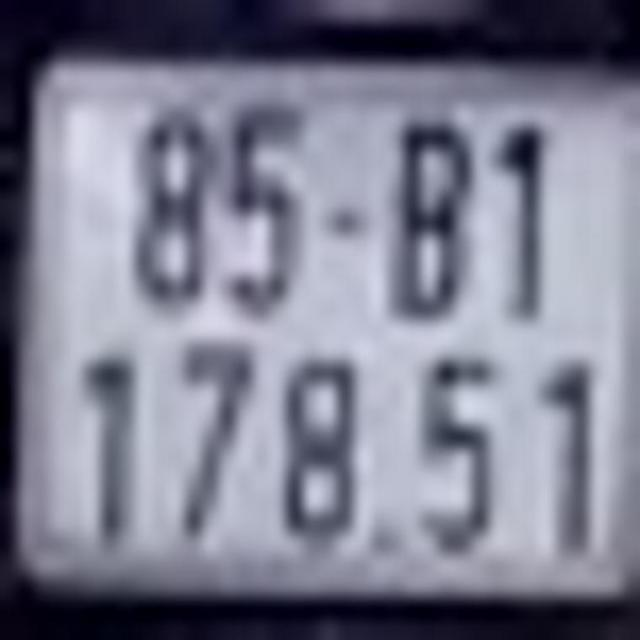1: (80, 348, 141, 552), (548, 354, 603, 557), (497, 122, 546, 330)
5: (406, 354, 508, 573), (226, 104, 306, 325)
7: (173, 334, 259, 546)
8: (137, 105, 211, 306), (292, 360, 361, 540)
B: (396, 118, 472, 324)
